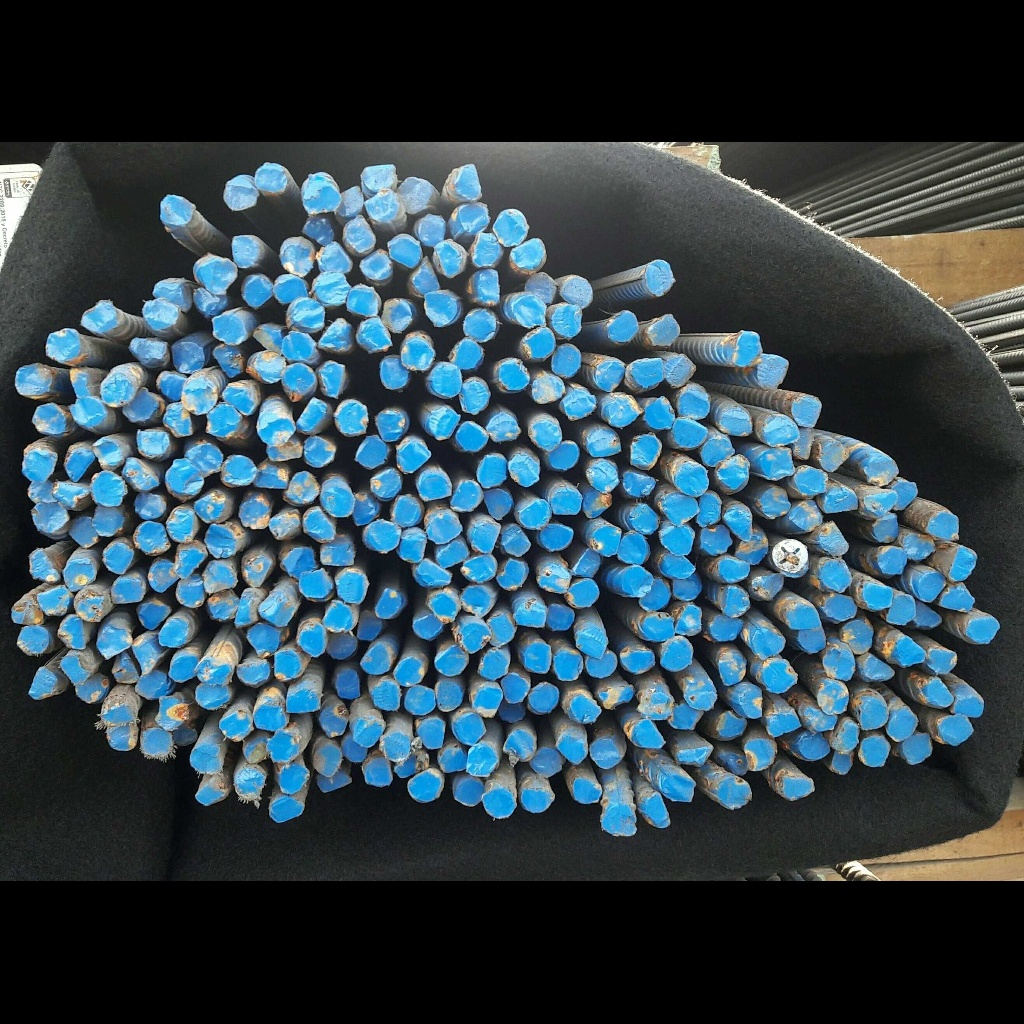dipstick: (182, 373, 217, 414), (303, 175, 339, 213), (493, 209, 528, 247), (280, 237, 314, 276), (200, 259, 238, 293), (319, 318, 355, 353), (46, 329, 84, 362), (224, 175, 259, 210), (762, 659, 797, 694), (258, 412, 294, 446), (91, 472, 127, 506), (424, 510, 460, 544), (735, 528, 768, 565), (717, 454, 750, 491), (129, 339, 169, 369), (213, 344, 247, 379), (396, 439, 431, 473), (314, 272, 350, 305), (167, 460, 203, 493), (16, 364, 53, 396), (283, 362, 315, 399), (335, 400, 367, 437), (154, 281, 192, 312), (456, 620, 490, 654), (123, 389, 158, 422), (660, 523, 695, 556), (673, 462, 708, 495), (818, 558, 851, 593), (123, 459, 159, 491), (662, 635, 693, 672), (758, 353, 788, 391), (291, 298, 325, 331), (259, 591, 292, 625), (424, 292, 457, 326), (605, 395, 639, 428), (187, 445, 222, 477), (663, 353, 695, 388), (618, 531, 650, 566), (249, 352, 285, 383), (600, 806, 636, 837), (68, 397, 105, 427), (164, 403, 197, 436), (101, 374, 135, 406), (167, 507, 199, 541), (29, 549, 61, 583), (248, 624, 280, 658), (366, 189, 400, 221), (463, 309, 497, 341), (134, 522, 169, 553), (664, 493, 699, 524), (731, 331, 762, 366), (23, 450, 56, 482), (102, 542, 134, 575), (136, 598, 169, 630), (98, 626, 131, 658), (368, 520, 400, 553), (497, 558, 529, 591), (429, 364, 462, 396), (587, 460, 619, 493), (718, 777, 751, 809), (206, 589, 240, 620), (320, 535, 354, 566), (531, 417, 562, 451), (511, 239, 545, 270), (589, 738, 623, 769), (856, 695, 887, 729), (207, 406, 242, 436), (474, 233, 504, 268), (590, 521, 620, 556), (631, 434, 661, 469), (81, 302, 117, 331), (640, 691, 676, 720), (304, 510, 336, 542), (157, 698, 189, 730), (357, 319, 389, 351), (402, 338, 434, 370), (504, 730, 536, 762), (525, 272, 557, 304), (319, 243, 352, 274), (303, 436, 336, 467), (390, 235, 421, 268), (470, 521, 501, 554), (477, 455, 508, 488), (537, 563, 570, 594), (513, 295, 546, 326), (563, 389, 596, 420), (577, 627, 608, 660), (732, 685, 763, 718), (172, 342, 206, 372), (213, 315, 247, 345), (223, 385, 257, 415), (205, 524, 235, 558), (242, 552, 272, 586), (401, 178, 431, 212), (435, 645, 469, 675), (583, 485, 613, 519), (143, 299, 178, 328), (346, 216, 375, 251), (672, 419, 707, 448), (727, 504, 753, 543), (763, 417, 799, 445), (348, 285, 379, 317), (32, 404, 64, 435), (287, 471, 318, 503), (149, 561, 180, 593), (174, 546, 206, 577), (267, 731, 299, 762), (323, 601, 354, 633), (284, 547, 316, 578), (376, 409, 407, 441), (393, 495, 424, 527), (409, 772, 441, 803), (454, 712, 485, 744), (528, 681, 559, 713), (531, 746, 563, 777), (451, 339, 483, 370), (434, 244, 465, 276), (649, 315, 680, 347), (817, 441, 849, 472), (913, 571, 945, 602), (161, 195, 194, 225), (242, 275, 272, 308), (223, 455, 256, 485), (63, 560, 96, 590), (357, 435, 387, 468), (380, 356, 410, 389), (460, 380, 490, 413), (562, 275, 592, 308), (797, 730, 830, 760), (865, 455, 898, 485), (840, 622, 873, 652), (675, 739, 713, 765), (274, 275, 308, 304), (552, 304, 581, 338), (552, 344, 581, 378), (631, 719, 665, 748), (940, 583, 974, 612), (67, 447, 95, 482), (417, 559, 452, 587), (455, 165, 483, 200), (362, 164, 398, 191), (645, 260, 672, 296), (136, 673, 173, 699), (195, 682, 232, 708), (296, 400, 327, 431), (312, 744, 343, 775), (404, 685, 435, 716), (497, 360, 528, 391), (719, 586, 750, 617), (817, 683, 848, 714), (764, 448, 795, 479), (283, 331, 315, 361), (375, 587, 405, 619), (428, 592, 460, 622), (520, 499, 552, 529), (531, 373, 563, 403), (752, 627, 784, 657), (824, 649, 854, 681), (759, 487, 789, 519), (945, 549, 977, 579), (941, 715, 973, 745), (138, 429, 171, 458), (322, 488, 355, 517), (177, 574, 206, 607), (75, 672, 108, 701), (352, 492, 381, 525), (360, 251, 393, 280), (623, 565, 652, 598), (820, 522, 849, 555), (417, 471, 451, 499), (642, 794, 670, 828), (766, 709, 800, 737), (33, 503, 68, 530), (303, 219, 338, 246), (587, 430, 622, 457), (475, 270, 501, 306), (256, 164, 287, 194), (232, 236, 262, 267), (69, 517, 99, 548), (94, 505, 124, 536), (74, 589, 104, 620), (159, 617, 189, 648), (416, 216, 446, 247), (472, 687, 502, 718), (552, 650, 583, 680), (452, 480, 482, 511), (509, 454, 540, 484), (703, 437, 734, 467), (791, 501, 822, 531), (859, 736, 890, 766), (220, 712, 252, 741), (190, 745, 222, 774), (235, 768, 264, 800), (383, 300, 412, 332), (646, 398, 675, 430), (678, 390, 710, 419), (720, 408, 752, 437), (927, 512, 959, 541), (237, 658, 270, 686), (320, 704, 348, 737), (297, 624, 325, 657), (465, 745, 498, 773), (609, 310, 637, 343), (601, 681, 634, 709), (671, 701, 704, 729), (623, 469, 656, 497), (889, 708, 917, 741), (462, 554, 496, 581), (53, 483, 89, 508), (142, 727, 172, 757), (479, 650, 509, 680), (640, 580, 670, 610), (93, 439, 124, 468), (195, 494, 226, 523), (278, 764, 309, 793), (522, 642, 551, 673), (429, 408, 458, 439), (629, 504, 660, 533), (895, 636, 926, 665), (901, 734, 932, 763), (204, 565, 236, 593), (299, 570, 331, 598), (361, 643, 389, 675), (483, 790, 515, 818), (514, 600, 546, 628), (437, 540, 469, 568), (631, 358, 663, 386), (662, 774, 694, 802), (744, 742, 776, 770), (751, 573, 783, 601), (17, 627, 50, 654), (198, 658, 231, 685), (503, 524, 530, 557), (567, 580, 600, 607), (487, 414, 520, 441), (319, 362, 343, 399), (59, 616, 85, 650), (786, 604, 820, 630), (337, 572, 366, 602), (371, 682, 401, 711), (454, 778, 484, 807), (463, 586, 492, 616), (595, 361, 624, 391), (716, 711, 746, 740), (270, 512, 301, 540), (240, 501, 271, 529), (29, 667, 57, 698), (353, 718, 384, 746), (570, 695, 601, 723), (686, 681, 717, 709), (904, 533, 935, 561), (253, 704, 285, 731), (642, 614, 674, 641), (793, 395, 820, 427), (256, 464, 289, 490), (102, 700, 135, 726), (822, 594, 855, 620), (967, 617, 1000, 643), (540, 525, 574, 550), (335, 187, 364, 216), (458, 422, 487, 451), (371, 470, 401, 498), (434, 681, 462, 711), (417, 718, 445, 748), (501, 673, 529, 703), (559, 735, 587, 765), (459, 204, 489, 232), (876, 546, 906, 574), (954, 690, 984, 718), (157, 370, 184, 401), (522, 786, 553, 813), (551, 488, 582, 515), (623, 646, 654, 673), (711, 614, 742, 641), (700, 526, 731, 553), (795, 468, 826, 495), (832, 720, 859, 751), (135, 493, 167, 519), (112, 577, 144, 603), (243, 732, 269, 764), (400, 529, 426, 561), (782, 774, 814, 800), (271, 797, 304, 822), (861, 655, 894, 680), (285, 688, 319, 712), (62, 656, 91, 684), (395, 658, 424, 686), (364, 758, 392, 787), (414, 613, 443, 641), (275, 650, 302, 680), (327, 632, 357, 659), (489, 615, 516, 645), (527, 329, 554, 359), (486, 489, 512, 520), (676, 605, 702, 636), (718, 557, 750, 582), (169, 655, 197, 683), (382, 732, 411, 759), (550, 443, 579, 470), (887, 594, 914, 623), (719, 652, 742, 686), (40, 589, 70, 615), (134, 640, 160, 670), (923, 679, 953, 705), (12, 599, 43, 624), (106, 725, 137, 750), (335, 669, 360, 700), (586, 652, 617, 677), (255, 325, 283, 352), (439, 746, 467, 773), (547, 603, 574, 631), (412, 266, 439, 294), (573, 550, 601, 577), (659, 556, 695, 577), (891, 480, 916, 510), (699, 493, 721, 527), (864, 492, 896, 515), (573, 777, 601, 803), (673, 574, 701, 600), (928, 648, 956, 674), (357, 611, 382, 640), (915, 601, 944, 626), (862, 585, 892, 609), (799, 626, 826, 652), (873, 515, 898, 543), (806, 708, 837, 730), (343, 736, 368, 762), (196, 784, 224, 805), (829, 751, 853, 774), (173, 725, 196, 744)
